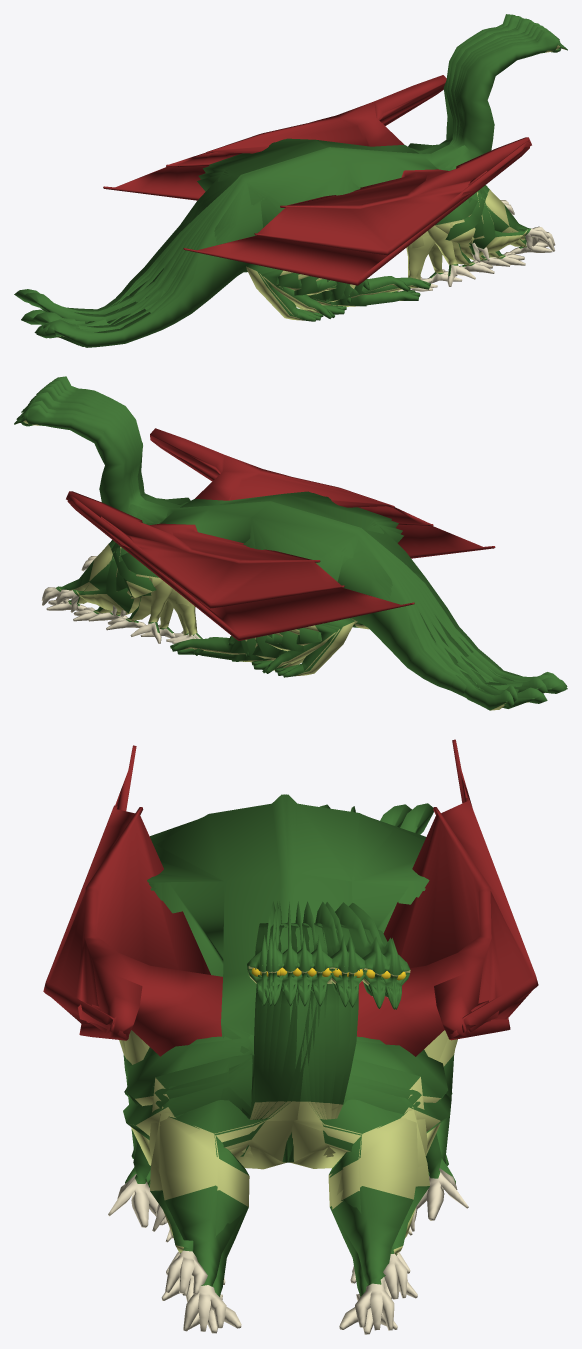
Rendered from drak_kraci.glb.
The picture shows the model from 3 angles, top to bottom: view 1: azimuth 30°, elevation 25°; view 2: azimuth 150°, elevation 25°; view 3: azimuth 270°, elevation 25°; orthographic projection. The views are drawn at different scales.
Visible parts, largest first — view 1: chuze_00, chuze_10, chuze_05, chuze_11, chuze_09, chuze_07, chuze_06, chuze_03, chuze_02, chuze_01, chuze_08, chuze_04; view 2: chuze_00, chuze_07, chuze_04, chuze_03, chuze_11, chuze_06, chuze_09, chuze_10, chuze_08, chuze_02, chuze_01, chuze_05; view 3: chuze_00, chuze_06, chuze_09, chuze_07, chuze_05, chuze_03, chuze_04, chuze_10, chuze_11, chuze_02, chuze_01, chuze_08.
Part boxes in pixels (<box>): chuze_00: <box>43,32,567,347</box>; chuze_10: <box>21,24,544,323</box>; chuze_05: <box>40,15,549,338</box>; chuze_11: <box>32,30,550,331</box>; chuze_09: <box>14,19,534,314</box>; chuze_07: <box>45,14,552,333</box>; chuze_06: <box>46,14,555,336</box>; chuze_03: <box>34,22,540,345</box>; chuze_02: <box>37,27,549,346</box>; chuze_01: <box>44,30,552,347</box>; chuze_08: <box>21,16,525,324</box>; chuze_04: <box>36,18,528,341</box>; chuze_00: <box>41,376,558,680</box>; chuze_07: <box>14,405,551,692</box>; chuze_04: <box>21,394,567,689</box>; chuze_03: <box>28,386,565,693</box>; chuze_11: <box>52,378,547,693</box>; chuze_06: <box>15,405,553,685</box>; chuze_09: <box>22,392,514,710</box>; chuze_10: <box>40,383,517,701</box>; chuze_08: <box>16,401,547,708</box>; chuze_02: <box>48,381,560,682</box>; chuze_01: <box>46,377,561,683</box>; chuze_05: <box>17,400,567,686</box>; chuze_00: <box>43,739,538,1330</box>; chuze_06: <box>159,794,456,1331</box>; chuze_09: <box>125,794,447,1284</box>; chuze_07: <box>160,795,457,1333</box>; chuze_05: <box>150,794,448,1295</box>; chuze_03: <box>126,794,426,1283</box>; chuze_04: <box>123,794,429,1273</box>; chuze_10: <box>147,794,451,1274</box>; chuze_11: <box>123,794,429,1299</box>; chuze_02: <box>108,794,452,1298</box>; chuze_01: <box>119,901,416,1334</box>; chuze_08: <box>124,794,468,1302</box>.
Size of the model in its own units: 13.49 by 5.08 by 5.49.
